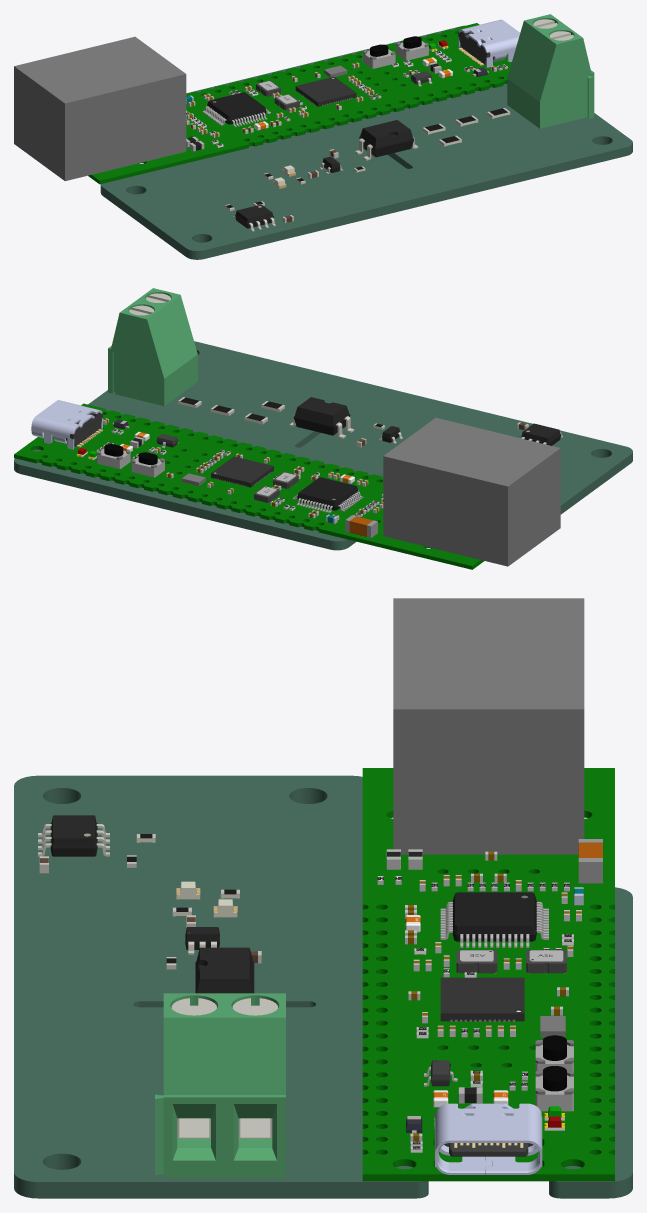
File: pico-poe-mains-carrier.glb
3 renders of one model, top to bottom at view 1: azimuth 30°, elevation 25°; view 2: azimuth 150°, elevation 25°; view 3: azimuth 270°, elevation 25°, orthographic. The views are drawn at different scales.
Visible parts, largest first — view 1: =>[0:1:1:17], =>[0:1:1:176], =>[0:1:1:175], =>[0:1:1:3], =>[0:1:1:13]; view 2: =>[0:1:1:17], =>[0:1:1:176], =>[0:1:1:175], =>[0:1:1:3], =>[0:1:1:13]; view 3: =>[0:1:1:17], =>[0:1:1:176], =>[0:1:1:175], =>[0:1:1:3], =>[0:1:1:13].
Part boxes in pixels (x1,y1,x2,y2): =>[0:1:1:17]: [14, 19, 520, 184]; =>[0:1:1:176]: [100, 25, 632, 259]; =>[0:1:1:175]: [507, 14, 594, 128]; =>[0:1:1:3]: [355, 120, 418, 160]; =>[0:1:1:13]: [233, 204, 275, 231]; =>[0:1:1:17]: [14, 400, 560, 569]; =>[0:1:1:176]: [14, 341, 632, 550]; =>[0:1:1:175]: [108, 288, 197, 405]; =>[0:1:1:3]: [289, 397, 354, 438]; =>[0:1:1:13]: [521, 423, 562, 445]; =>[0:1:1:17]: [362, 598, 614, 1181]; =>[0:1:1:176]: [14, 775, 632, 1198]; =>[0:1:1:175]: [155, 993, 285, 1177]; =>[0:1:1:3]: [195, 947, 254, 993]; =>[0:1:1:13]: [38, 815, 109, 856].
Bounding box in the file's own units: 0.0852 × 0.0175 × 0.0515.
